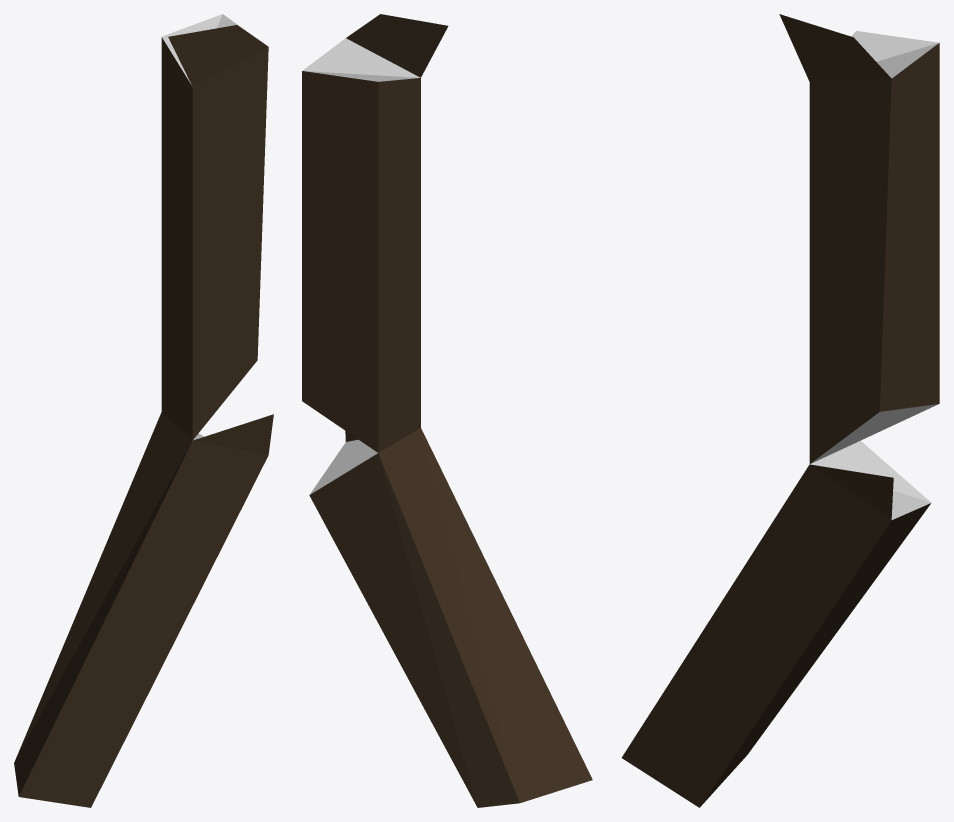
Rendered from OC_LOB_PLANKBROKEN_SMALL2.OBJ.
3 renders of one model, left to right at view 1: azimuth 30°, elevation 25°; view 2: azimuth 150°, elevation 25°; view 3: azimuth 330°, elevation 25°, orthographic. The views are drawn at different scales.
Visible parts, largest first — view 1: OC_LOB_PLANKBROKEN_SMALL2; view 2: OC_LOB_PLANKBROKEN_SMALL2; view 3: OC_LOB_PLANKBROKEN_SMALL2.
Boxes of the visible parts, x1=… form: OC_LOB_PLANKBROKEN_SMALL2: x1=14, y1=14, x2=273, y2=807; OC_LOB_PLANKBROKEN_SMALL2: x1=302, y1=14, x2=592, y2=807; OC_LOB_PLANKBROKEN_SMALL2: x1=621, y1=14, x2=939, y2=807.
Bounding box in the file's own units: 1.38 × 3.92 × 0.4402.
